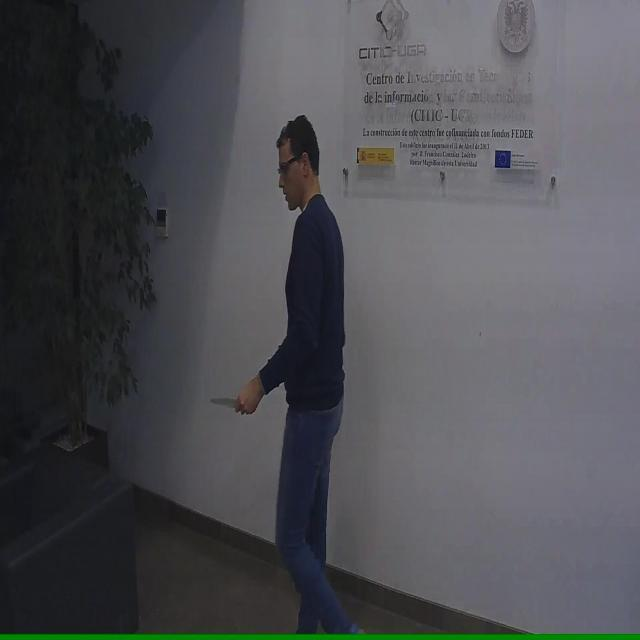Knife: (207, 382, 256, 419)
